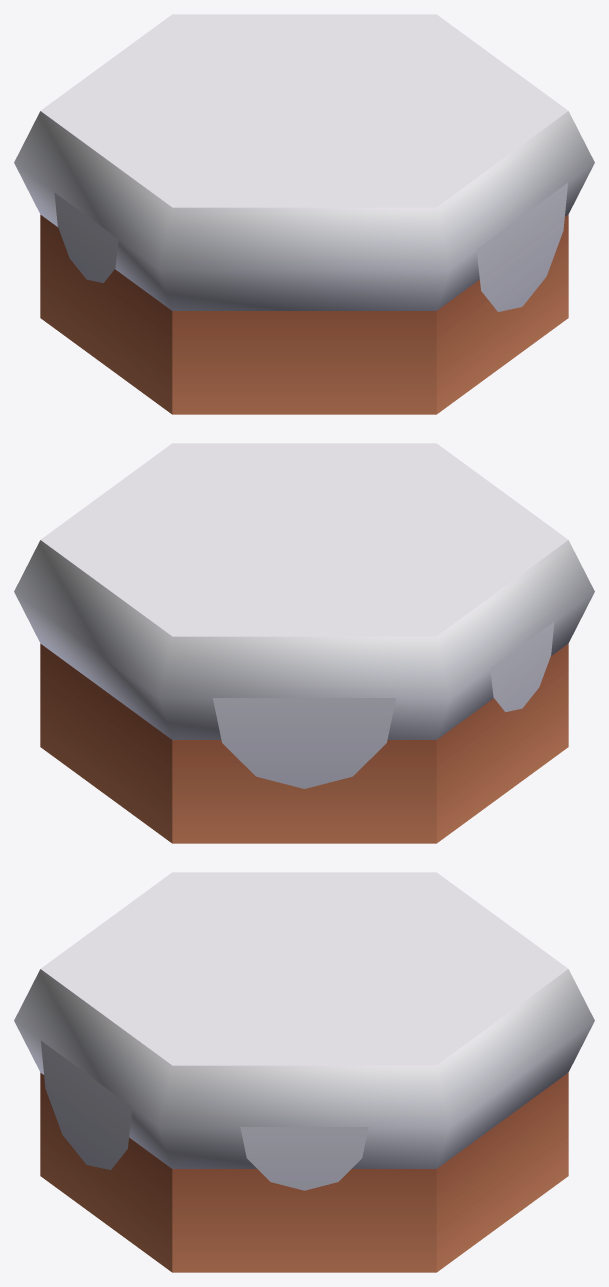
Rendered from kenney-platformer-block-snow-overhang-low-hexagon.glb.
The picture shows the model from 3 angles, top to bottom: view 1: azimuth 30°, elevation 25°; view 2: azimuth 150°, elevation 25°; view 3: azimuth 270°, elevation 25°; orthographic projection.
Visible parts, largest first — view 1: block-snow-overhang-low-hexagon; view 2: block-snow-overhang-low-hexagon; view 3: block-snow-overhang-low-hexagon.
Boxes of the visible parts, x1,y1,x2,y2 form: block-snow-overhang-low-hexagon: [14, 14, 594, 414]; block-snow-overhang-low-hexagon: [14, 443, 594, 843]; block-snow-overhang-low-hexagon: [14, 872, 594, 1272].
Bounding box in the file's own units: 1.1 × 0.4999 × 1.27.
1 material, 1 textured.
